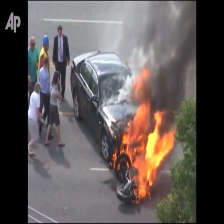fire_h: (120, 67, 176, 200)
fire_l: (116, 157, 130, 169), (110, 147, 117, 169)
